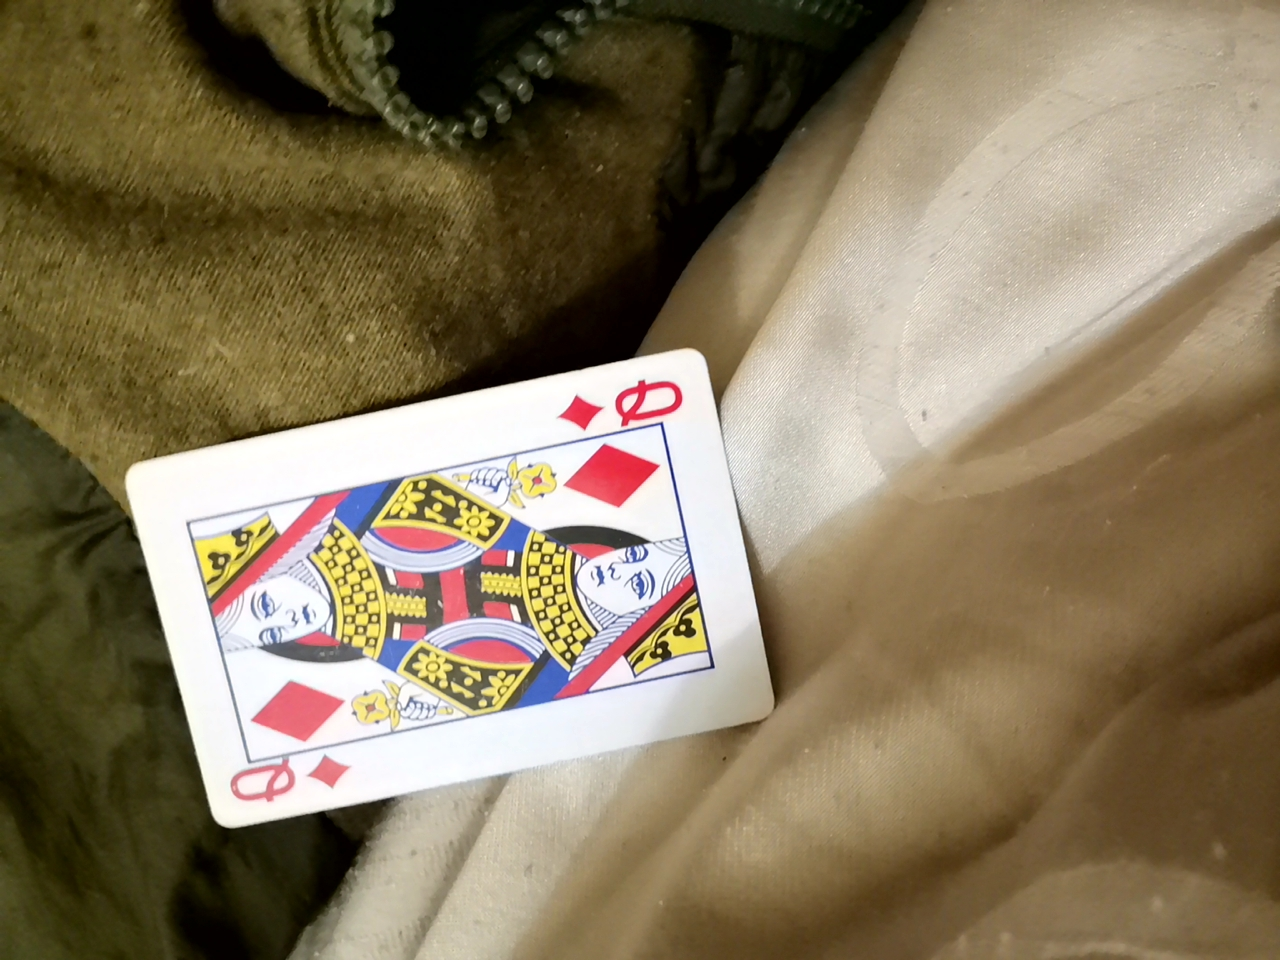fk q: (125, 365, 744, 871)
